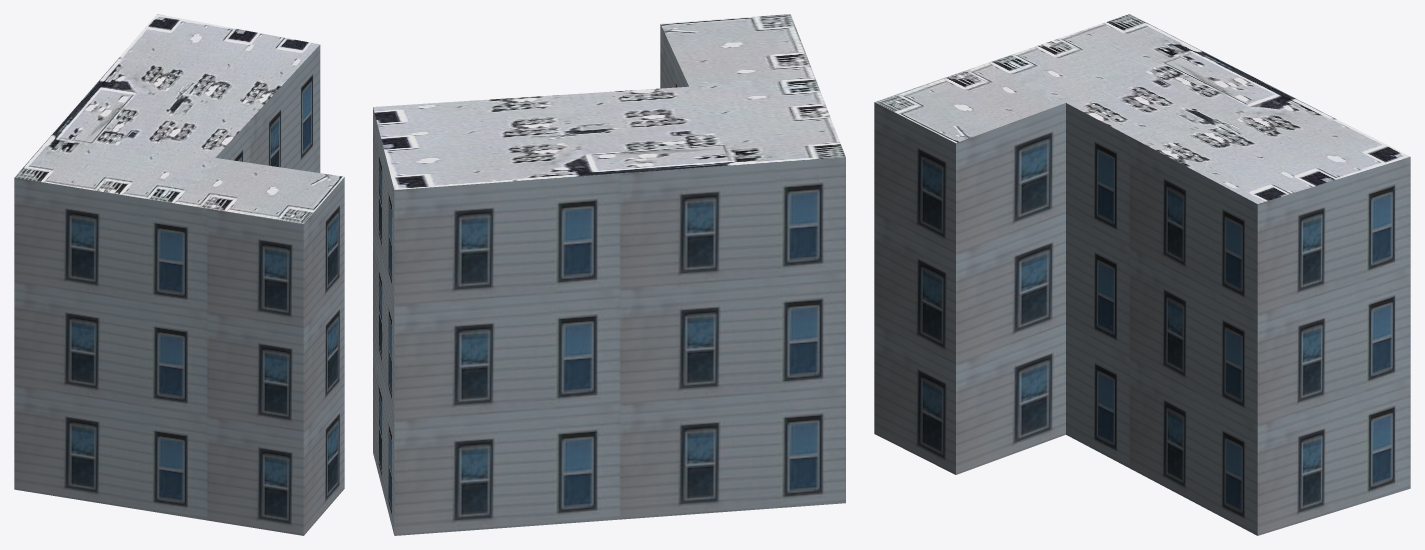
File: ResTex__1442.fbx
3 renders of one model, left to right at view 1: azimuth 30°, elevation 25°; view 2: azimuth 150°, elevation 25°; view 3: azimuth 270°, elevation 25°, orthographic. The views are drawn at different scales.
Parts seen in each view (by area): view 1: CityEngineMaterial_18_m, CityEngineMaterial_4_m; view 2: CityEngineMaterial_18_m, CityEngineMaterial_4_m; view 3: CityEngineMaterial_18_m, CityEngineMaterial_4_m.
Part boxes in pixels (x1,y1,x2,y2): CityEngineMaterial_18_m: (14,45,344,535); CityEngineMaterial_4_m: (14,14,344,223); CityEngineMaterial_18_m: (373,24,845,535); CityEngineMaterial_4_m: (373,14,845,189); CityEngineMaterial_18_m: (874,102,1410,535); CityEngineMaterial_4_m: (874,14,1410,203).
Bounding box in the file's own units: 11.06 × 9 × 13.18.
2 materials, 2 textured.
